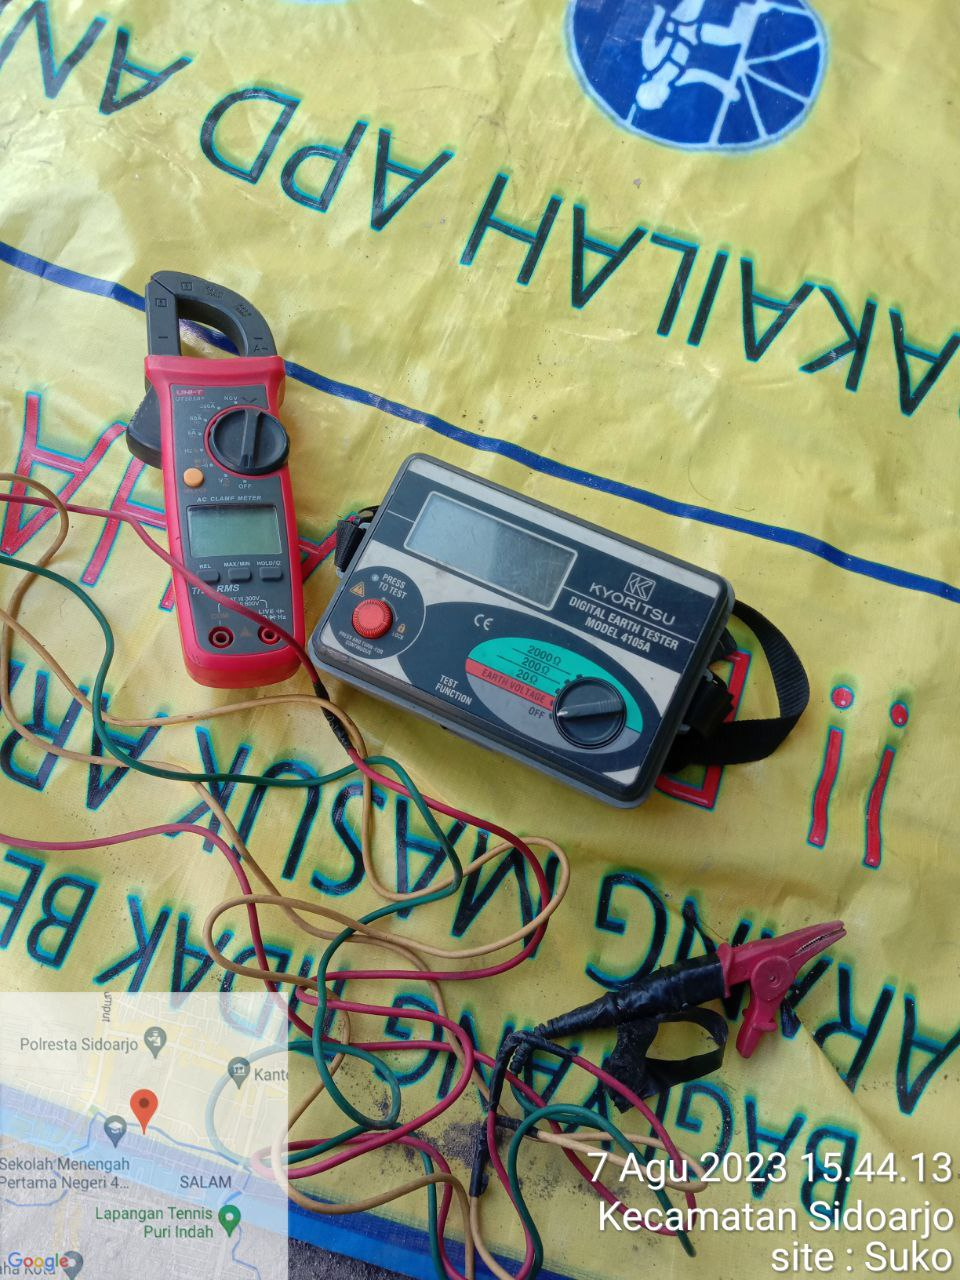EARTH_GROUNDING_TESTER: (310, 451, 737, 812)
TANG_AMPERE: (126, 265, 308, 692)
